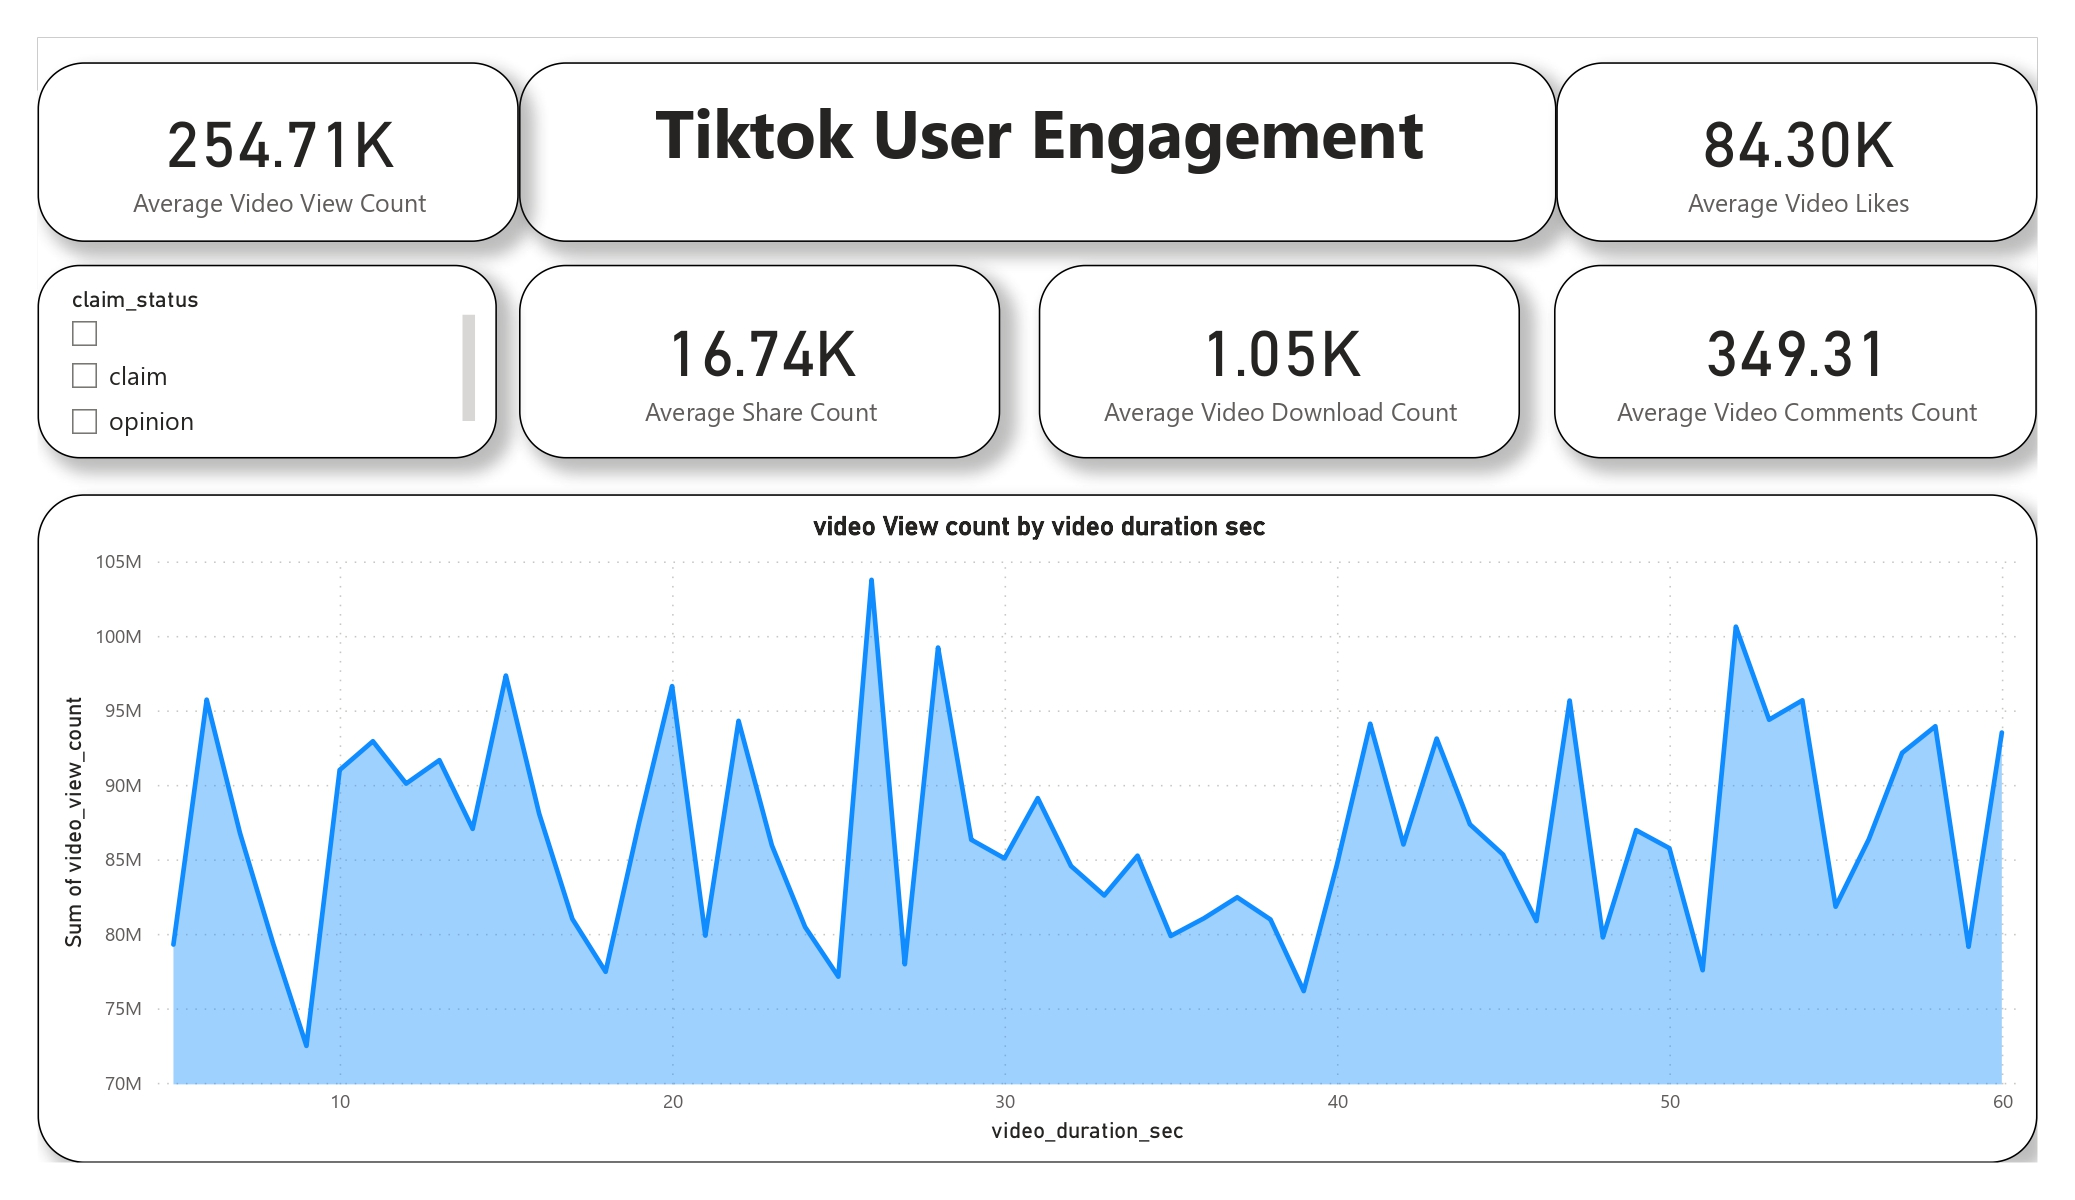

Layout of this report page (visuals, bound fields, positions):
{"tool":"powerbi","page":{"name":"Page 1","canvas":[1280,720],"ordinal":0},"visuals":[{"type":"textbox","box":[308.2,15.8,663.8,115.2],"z":0},{"type":"card","fields":{"Values":["tiktok_dataset.Average Video View Count"]},"box":[0,15.8,308.2,115.2],"z":1},{"type":"card","fields":{"Values":["tiktok_dataset.Average Video Likes"]},"box":[972,15.8,308.2,115.2],"z":2},{"type":"card","fields":{"Values":["tiktok_dataset.Average Share Count"]},"box":[307.8,145,307.8,124.3],"z":3},{"type":"card","fields":{"Values":["tiktok_dataset.Average Video Download Count"]},"box":[640.7,145,307.8,124.3],"z":4},{"type":"card","fields":{"Values":["tiktok_dataset.Average Video Comments Count"]},"box":[970.7,145,309.3,124.3],"z":5},{"type":"slicer","fields":{"Values":["tiktok_dataset.claim_status"]},"box":[0,145,294.5,124.3],"z":6},{"type":"stackedAreaChart","title":"video View count by video duration sec","fields":{"Category":["tiktok_dataset.video_duration_sec"],"Y":["Sum(tiktok_dataset.video_view_count)"]},"box":[0,292.3,1280.2,427.7],"z":7}]}

Visuals, with their boxes in screenshot pixels (x1, y1, x2, y2):
textbox: pyautogui.locateOnScreen(519, 62, 1556, 242)
card - tiktok_dataset.Average Video View Count: pyautogui.locateOnScreen(38, 62, 519, 242)
card - tiktok_dataset.Average Video Likes: pyautogui.locateOnScreen(1556, 62, 2038, 242)
card - tiktok_dataset.Average Share Count: pyautogui.locateOnScreen(518, 264, 999, 458)
card - tiktok_dataset.Average Video Download Count: pyautogui.locateOnScreen(1039, 264, 1520, 458)
card - tiktok_dataset.Average Video Comments Count: pyautogui.locateOnScreen(1554, 264, 2038, 458)
slicer - tiktok_dataset.claim_status: pyautogui.locateOnScreen(38, 264, 498, 458)
"video View count by video duration sec" stackedAreaChart: pyautogui.locateOnScreen(38, 494, 2038, 1162)
